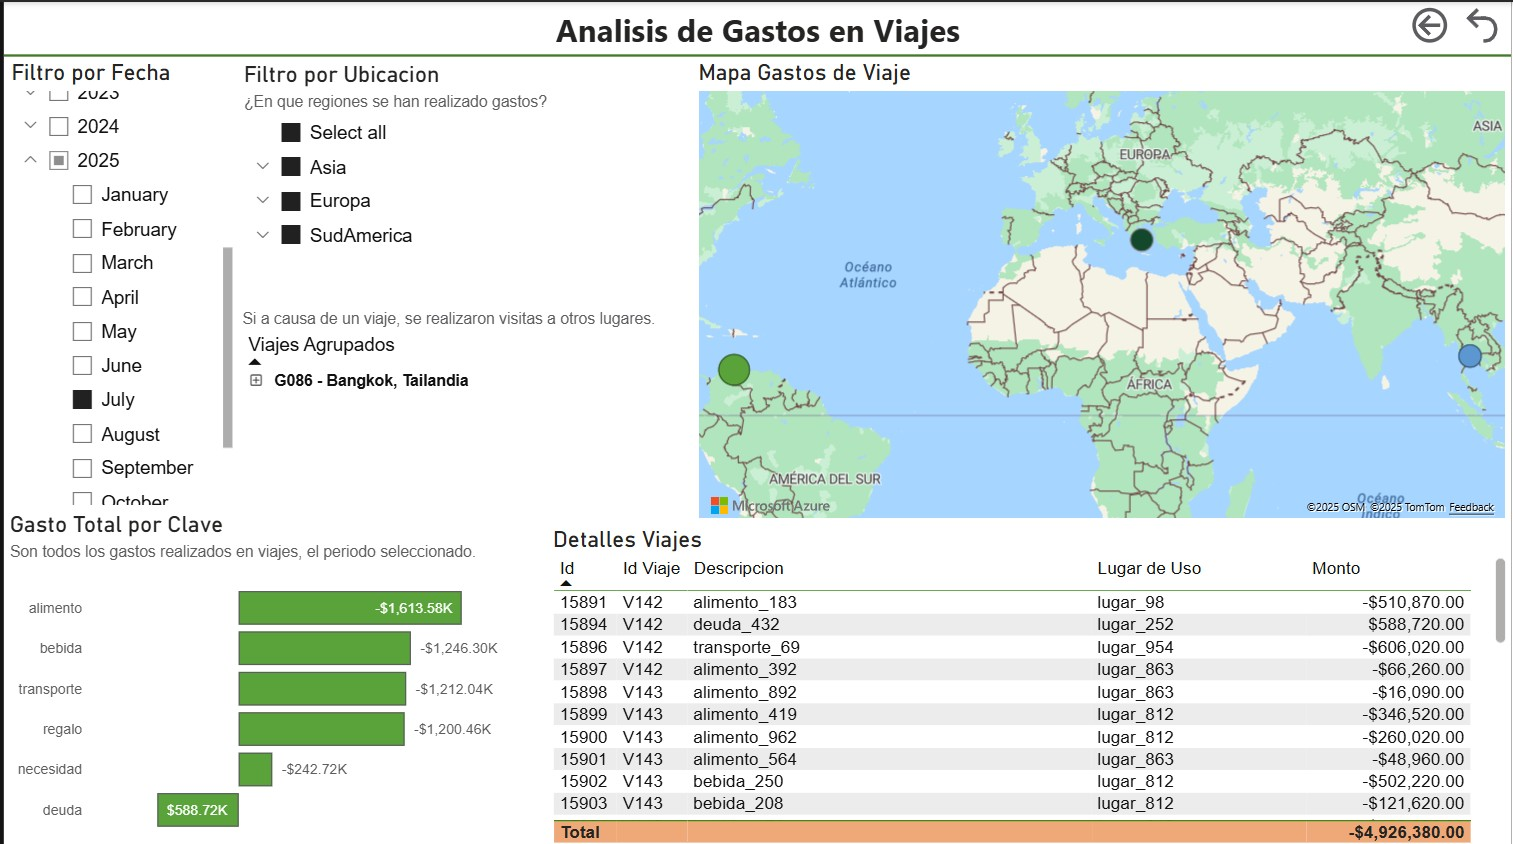

What the dashboard file says about the page in this screenshot:
{"tool":"powerbi","page":{"name":"Reporte Viajes","canvas":[1280,720],"ordinal":4},"visuals":[{"type":"textbox","box":[259.8,0,760.4,48.1],"z":0,"group":"g1"},{"type":"azureMap","title":"Mapa Gastos de Viaje","fields":{"Size":["Count(viajes.id_viaje)"],"Series":["viajes.ubicacion_viajes"],"Y":["geografia.latitud"],"X":["geografia.longitud"]},"box":[585,48.8,695,395],"z":0},{"type":"shape","box":[0,32.8,1280,24.6],"z":1000,"group":"g1"},{"type":"tableEx","title":"Detalles Viajes","fields":{"Values":["c_diaria.id","viajes.id_viaje","c_diaria.descripcion","c_diaria.lugar_de_uso","DAX Measures.Total Gastado Clave"]},"box":[460.9,444.4,818.7,275],"z":1000},{"type":"clusteredBarChart","title":"Gasto Total por Clave","fields":{"Y":["DAX Measures.Total Gastado Clave"],"Category":["c_diaria.clave"]},"box":[0,431.6,460.9,287.7],"z":2000},{"type":"slicer","title":"Filtro por Ubicacion","fields":{"Values":["geografia.Continente > ubicacion_viajes.continente","geografia.Continente > ubicacion_viajes.pais","geografia.Continente > ubicacion_viajes.ubicacion_viajes","viajes.id_viaje_descripcion"]},"box":[199.2,49.5,386.6,205.7],"z":3000},{"type":"pivotTable","fields":{"Rows":["viajes.grupo_viaje_desc","viajes.id_viaje_desc"]},"box":[197.3,255.9,387.1,175.7],"z":4000},{"type":"group","id":"g1","title":"Title & Line","box":[0,0,1280,57.4],"z":5000},{"type":"actionButton","box":[1235,0,44.6,39.5],"z":6000},{"type":"actionButton","box":[1190.5,0,44.6,39.5],"z":7000},{"type":"slicer","title":"Filtro por Fecha","fields":{"Values":["Calendario.Fecha.Variation.Date Hierarchy.Year","Calendario.Fecha.Variation.Date Hierarchy.Month"]},"box":[1.3,48.4,197.3,383.2],"z":8000}]}

Visuals, with their boxes in screenshot pixels (x1, y1, x2, y2), scaled from the page's 1280x720 canvas onto the 1513x844 screenshot:
textbox: bbox(307, 0, 1206, 56)
"Mapa Gastos de Viaje" azureMap: bbox(691, 57, 1512, 520)
shape: bbox(0, 38, 1512, 67)
"Detalles Viajes" tableEx: bbox(545, 521, 1512, 843)
"Gasto Total por Clave" clusteredBarChart: bbox(0, 506, 545, 843)
"Filtro por Ubicacion" slicer: bbox(235, 58, 692, 299)
pivotTable - viajes.grupo_viaje_desc x viajes.id_viaje_desc: bbox(233, 300, 691, 506)
"Title & Line" group: bbox(0, 0, 1512, 67)
actionButton: bbox(1460, 0, 1512, 46)
actionButton: bbox(1407, 0, 1460, 46)
"Filtro por Fecha" slicer: bbox(2, 57, 235, 506)
